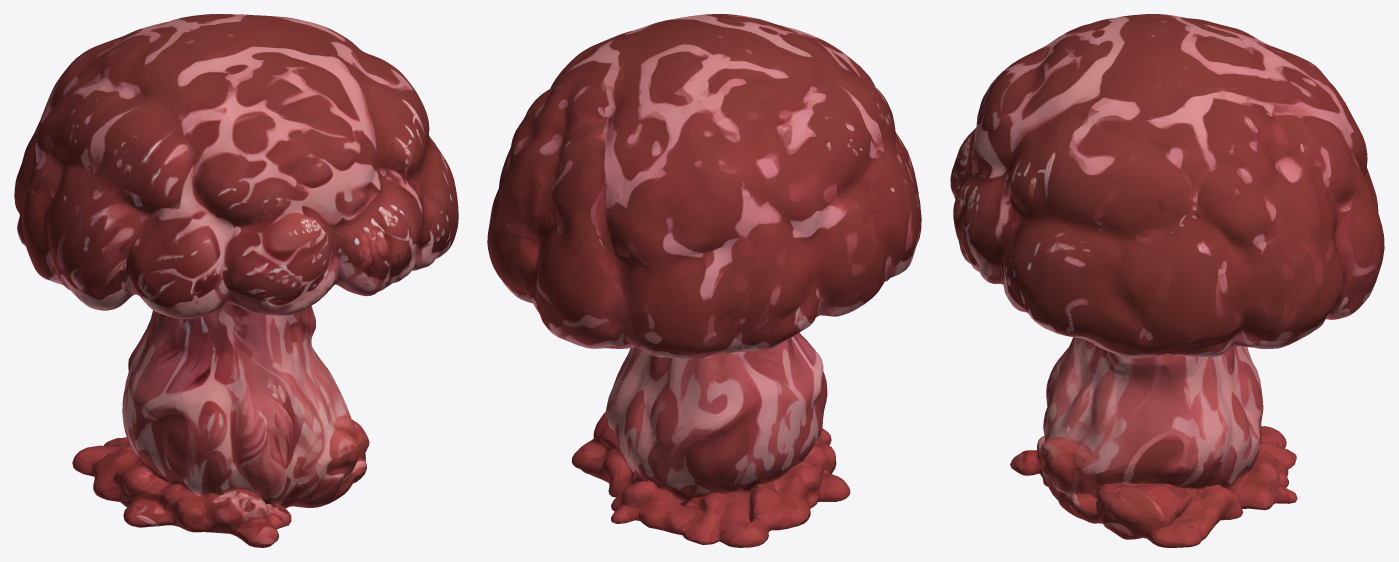
3 views of the same model, side by side, from view 1: azimuth 30°, elevation 25°; view 2: azimuth 150°, elevation 25°; view 3: azimuth 270°, elevation 25° (orthographic).
Visible parts, largest first — view 1: textured_mesh; view 2: textured_mesh; view 3: textured_mesh.
Part boxes in pixels (x1,y1,x2,y2): textured_mesh: (14,14,458,547); textured_mesh: (487,14,921,547); textured_mesh: (950,14,1384,547).
Bounding box in the file's own units: 175 × 199 × 173.
1 material, 1 textured.
